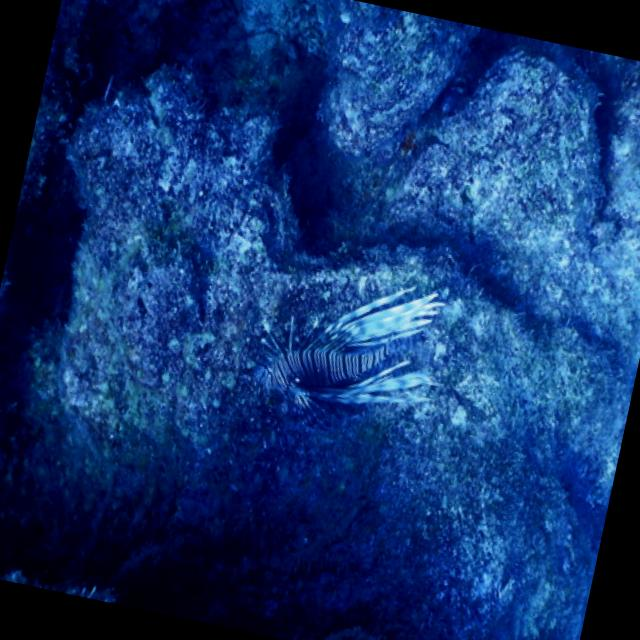Aslan Baligi: (240, 252, 457, 452)
